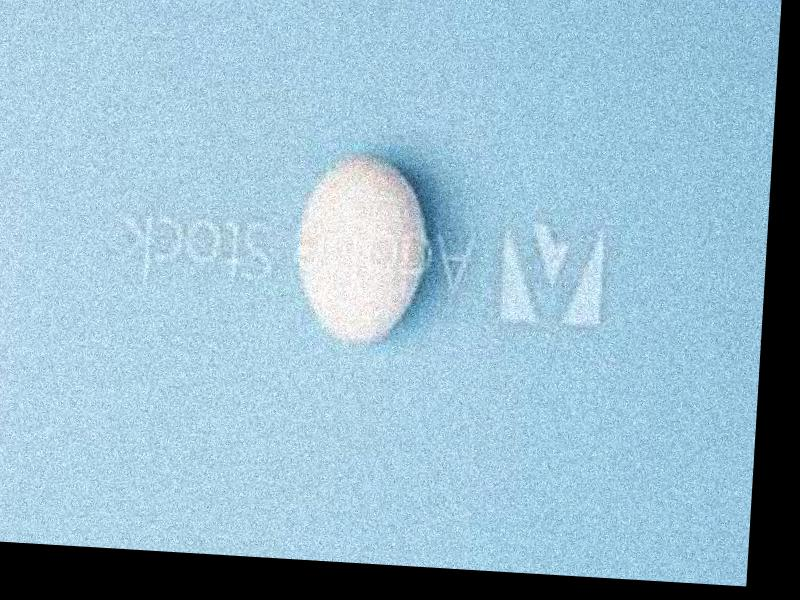Eggs: (294, 155, 430, 342)
